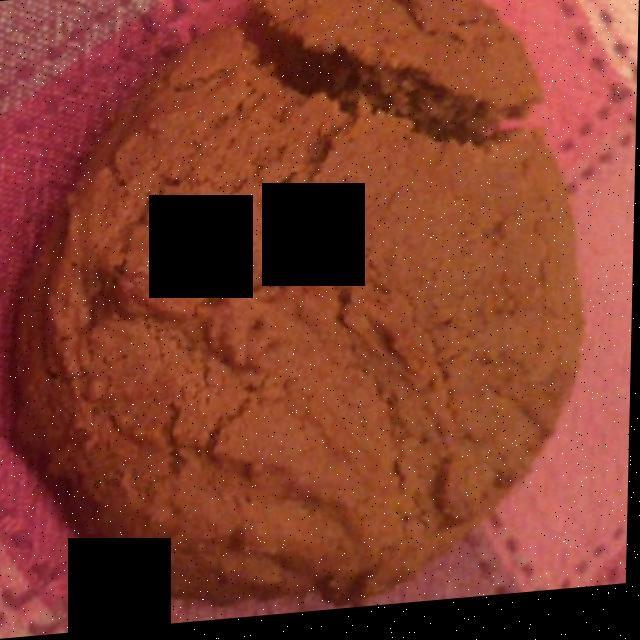biscuits: (24, 0, 573, 601)
